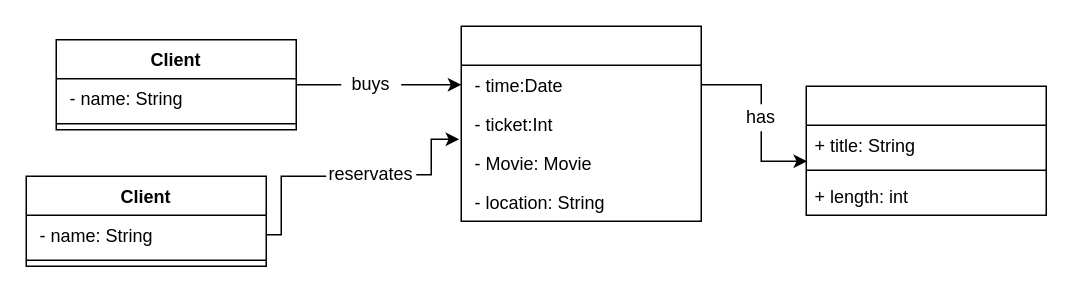
The diagram is 1073 pixels wide and 293 high, and some of its shapes have lost their labels. Here are the shapes that lost their labels. From the top down, the box of each, then its label:
(460, 25, 701, 221): Show
(805, 85, 1046, 215): Movie
